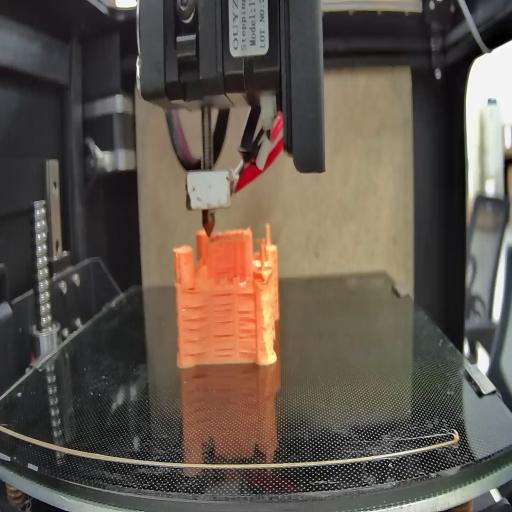cracks: (181, 304, 207, 356), (236, 307, 258, 358), (210, 286, 236, 326), (213, 332, 235, 361), (237, 289, 257, 302), (186, 282, 196, 292)
